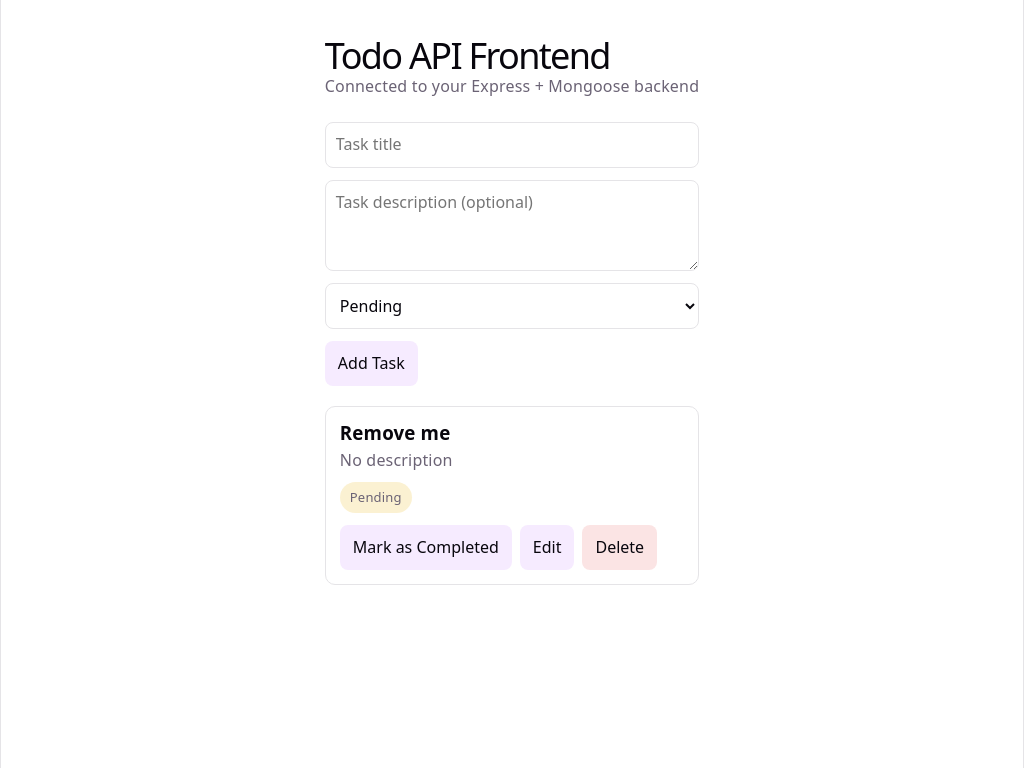
Test case: App › deletes a task from the list
Expected: the heading "Remove me" is shown, [340,420,450,445]
Click the button "Delete" at [620, 548], box [582,525,657,570]
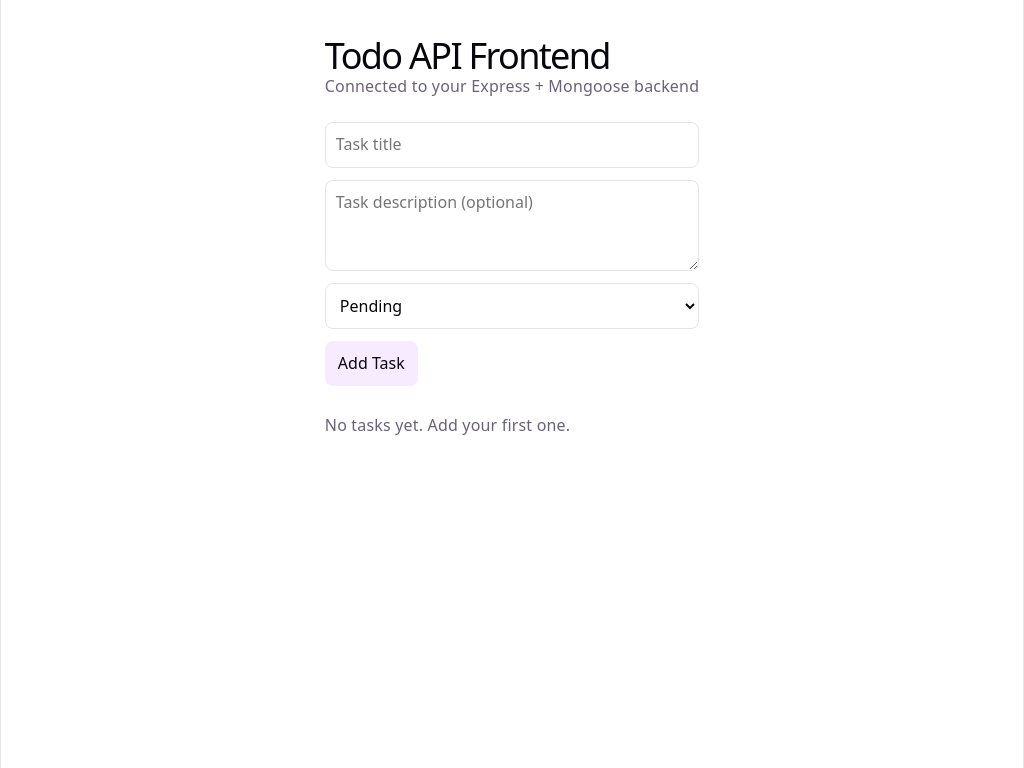
Result: the heading "Remove me" is gone
